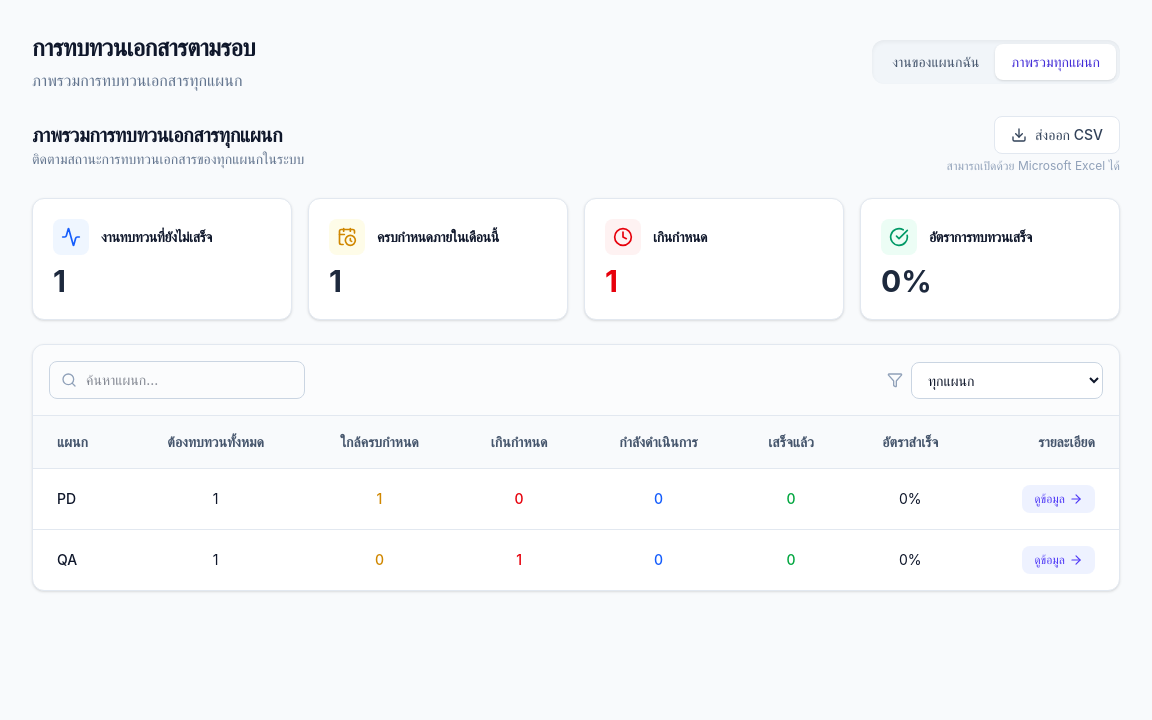
Test case: Periodic Review Components & Integration › QAQC / DCC Monitoring User › defaults to ภาพรวมทุกแผนก and can switch views
Check: the text "ภาพรวมการทบทวนเอกสารทุกแผนก" is shown, box [32,68,255,92]
Click the button "งานของแผนกฉัน": (936, 62) [876,44,995,80]
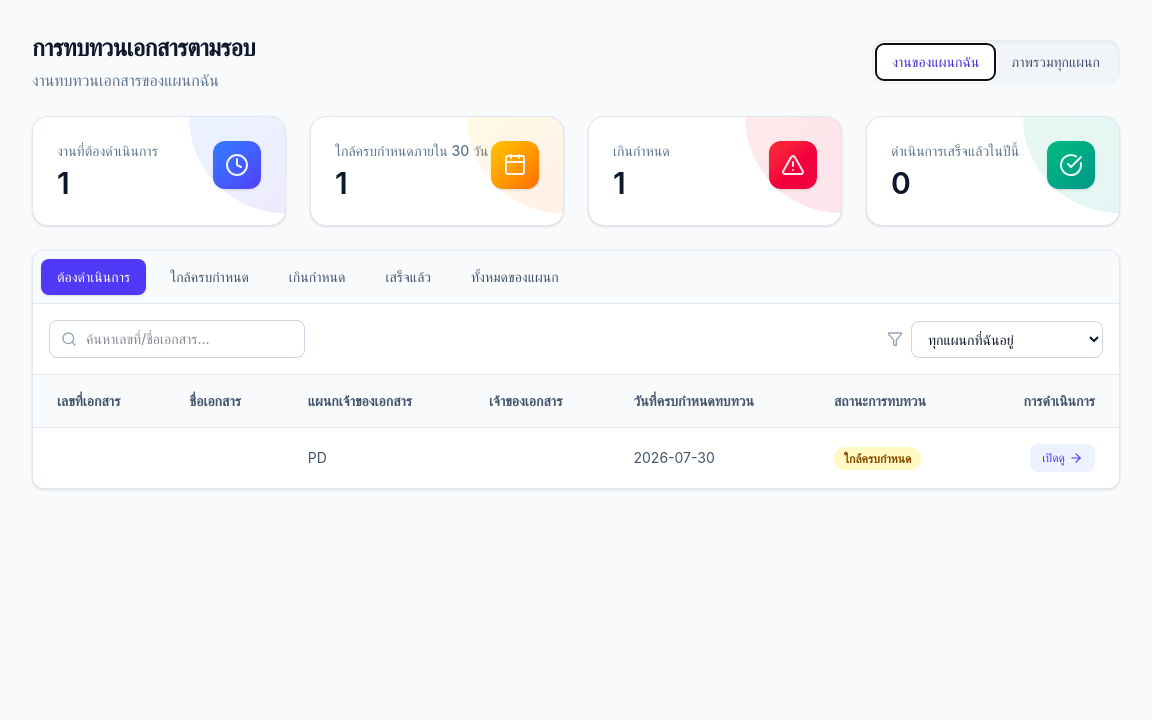
Check: the text "งานทบทวนเอกสารของแผนกฉัน" is shown, box [32,70,219,90]
